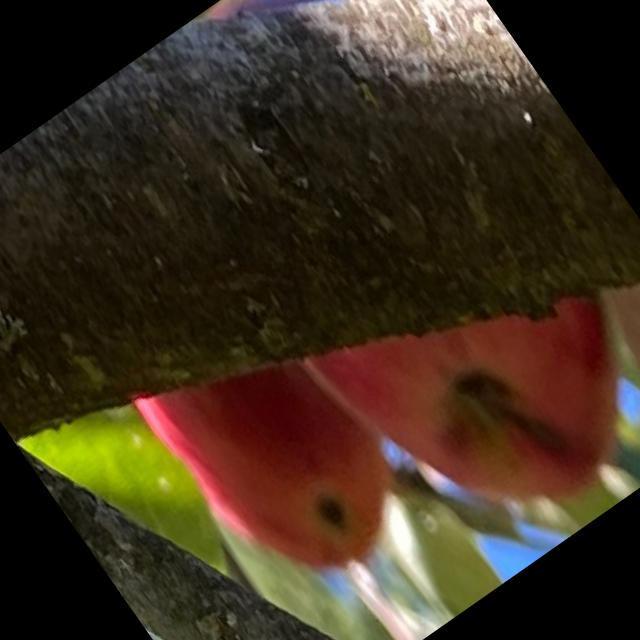Apples: (303, 198, 639, 574), (132, 293, 431, 612)
